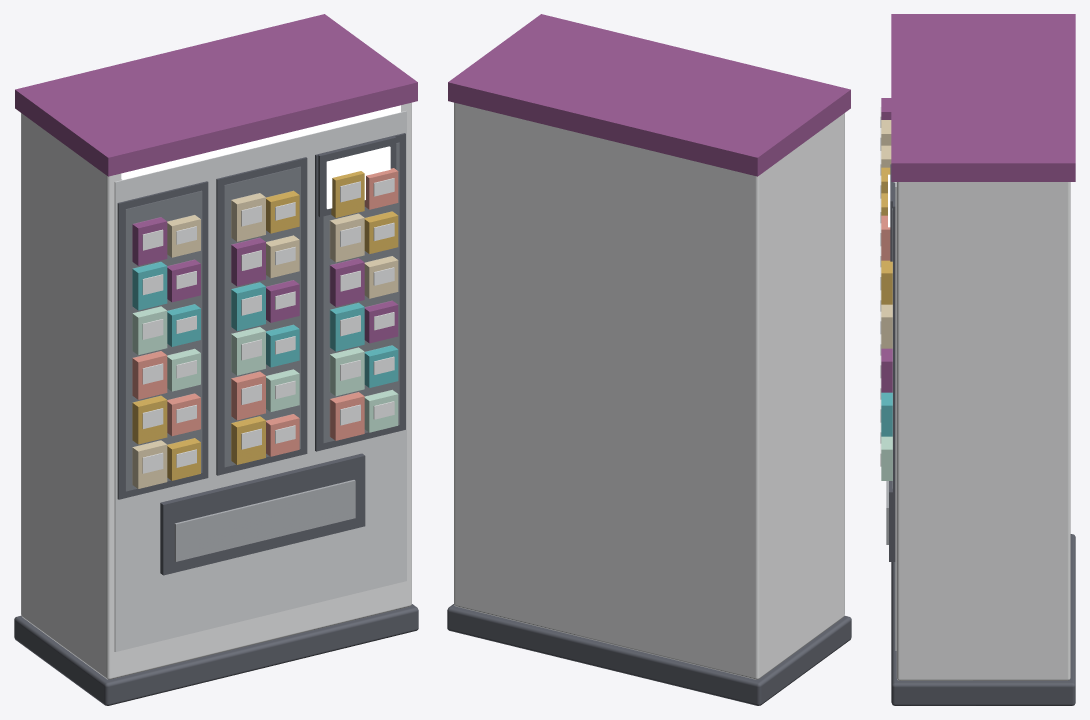
Rendered from pharmacy-and-high-street-chemist-robot-dispensing-cabi-84117700__37534.glb.
3 views of the same model, side by side, from view 1: azimuth 30°, elevation 25°; view 2: azimuth 150°, elevation 25°; view 3: azimuth 270°, elevation 25° (orthographic).
Visible parts, largest first — view 1: robot-dispensing-cabinet; view 2: robot-dispensing-cabinet; view 3: robot-dispensing-cabinet.
Boxes of the visible parts, x1,y1,x2,y2 form: robot-dispensing-cabinet: (14, 14, 418, 705); robot-dispensing-cabinet: (447, 14, 851, 705); robot-dispensing-cabinet: (880, 14, 1075, 705).
Bounding box in the file's own units: 1.4 × 2.34 × 0.764.
